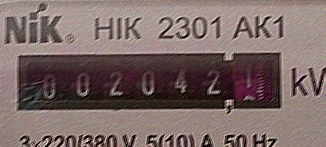0: (39, 71, 58, 101), (73, 69, 91, 100), (138, 67, 156, 98)
1: (240, 60, 254, 92)
2: (106, 69, 124, 99), (204, 67, 221, 96)
4: (171, 65, 189, 97)
screen: (11, 45, 287, 124)
